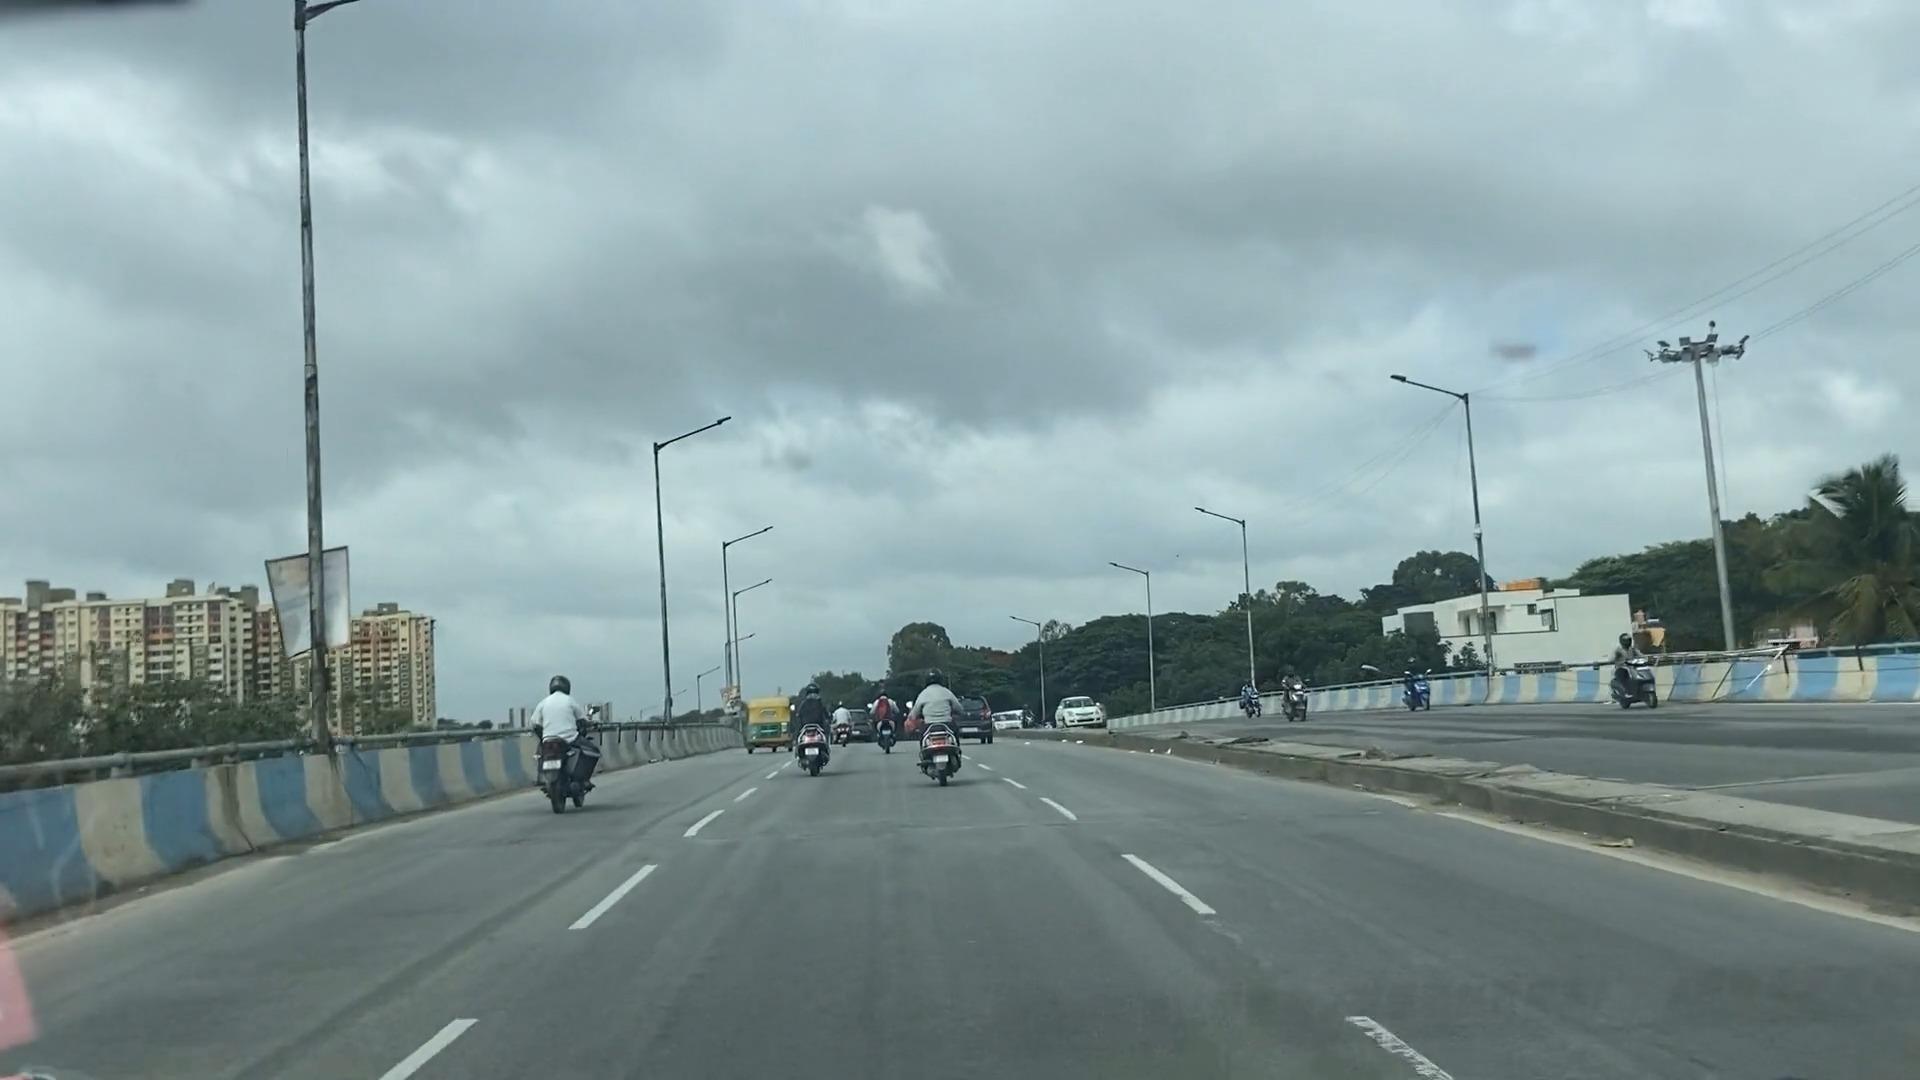LMV: (535, 686, 600, 803), (922, 688, 963, 783), (756, 705, 806, 753), (798, 688, 827, 770), (874, 686, 902, 749)
